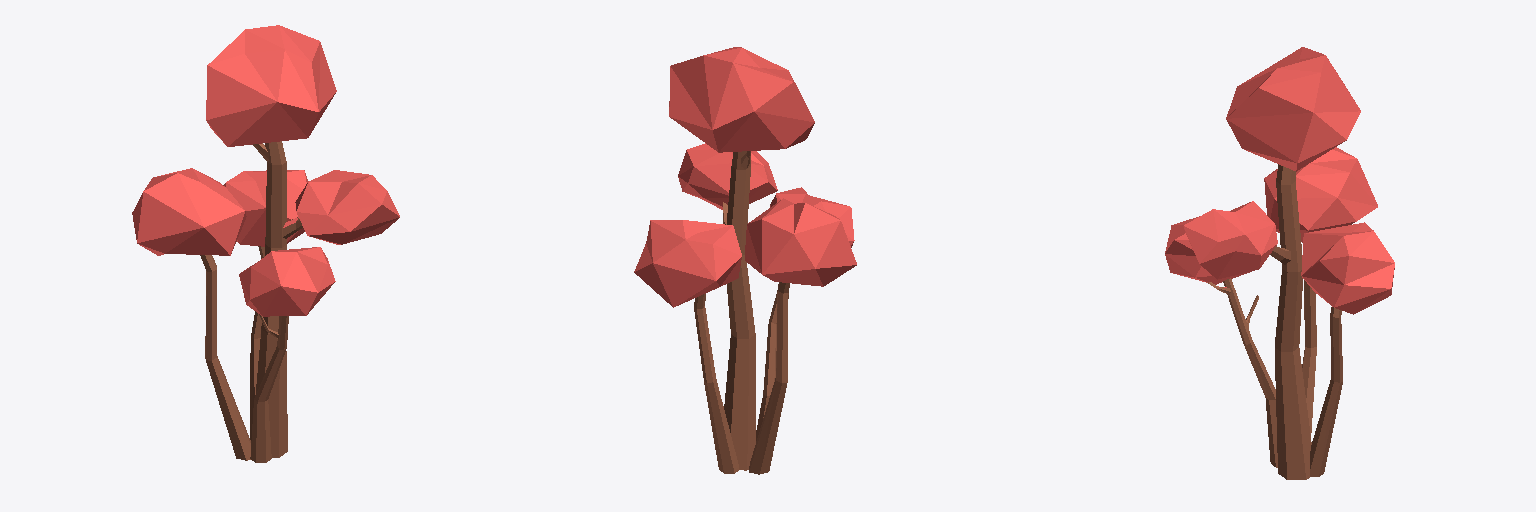
File: bush3.obj
3 views of the same model, side by side, from view 1: azimuth 30°, elevation 25°; view 2: azimuth 150°, elevation 25°; view 3: azimuth 270°, elevation 25° (orthographic).
Bounding box in the file's own units: 2.6 × 4.93 × 2.49.